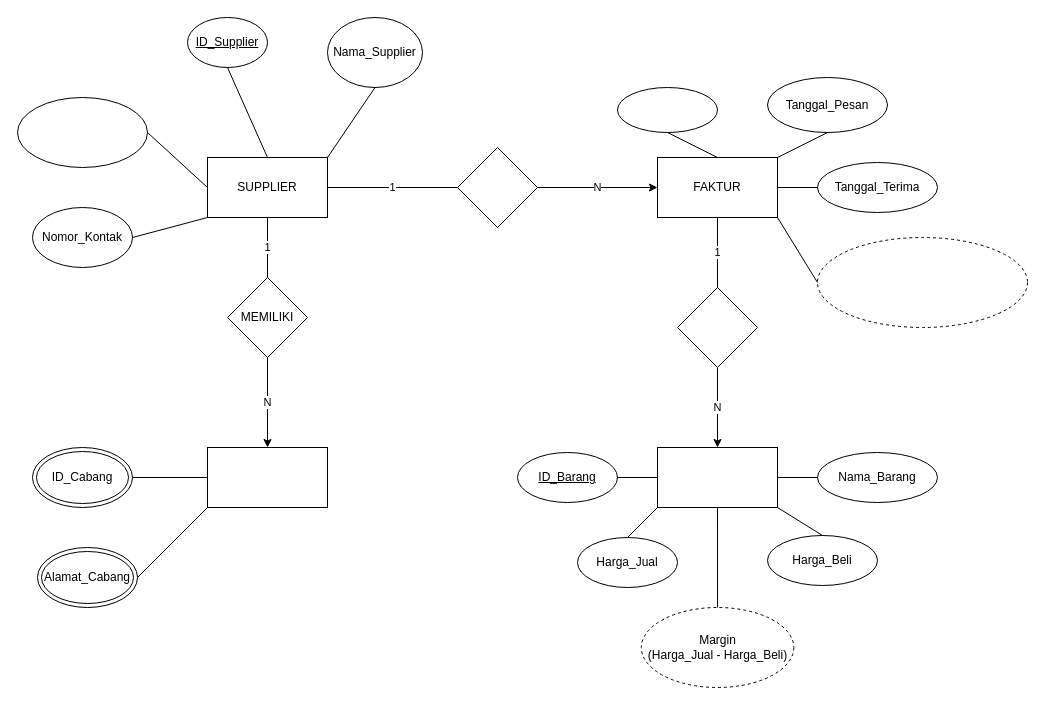
The diagram is 1045 pixels wide and 705 high, and some of its shapes have lost their labels. Here are the shapes that lost their labels. From the top down, the centre of each, then its label:
At (667,109): "ID_Faktur".
At (82,132): "Tahun_Mulai_Kontrak".
At (497,187): "MENGIRIM".
At (922,282): "Lama_Proses (Tanggal_Terima - Tanggal_Pesan)".
At (717,327): "BERISI".
At (267,477): "CABANG".
At (717,477): "BARANG".
